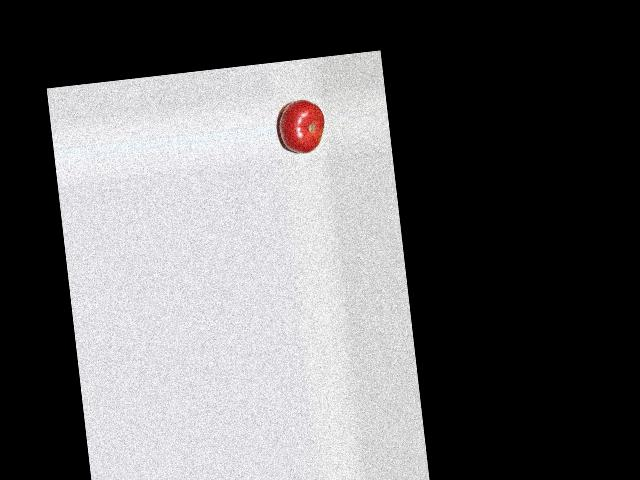tomato: (277, 96, 327, 156)
